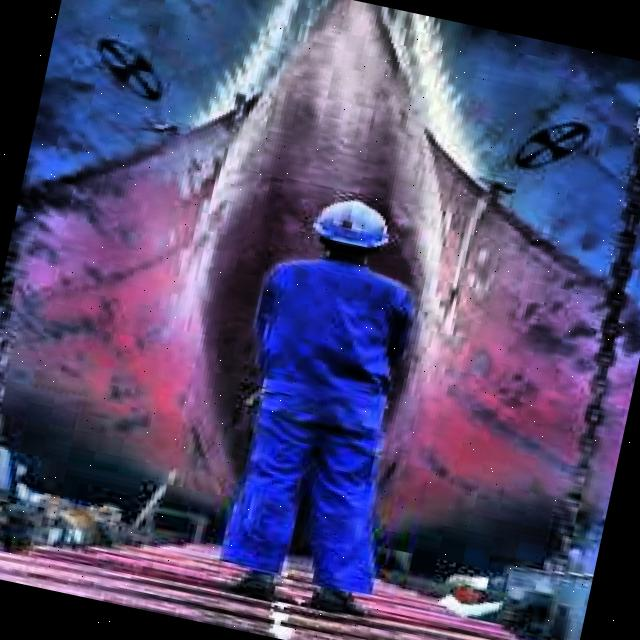helmet: (300, 188, 398, 270)
